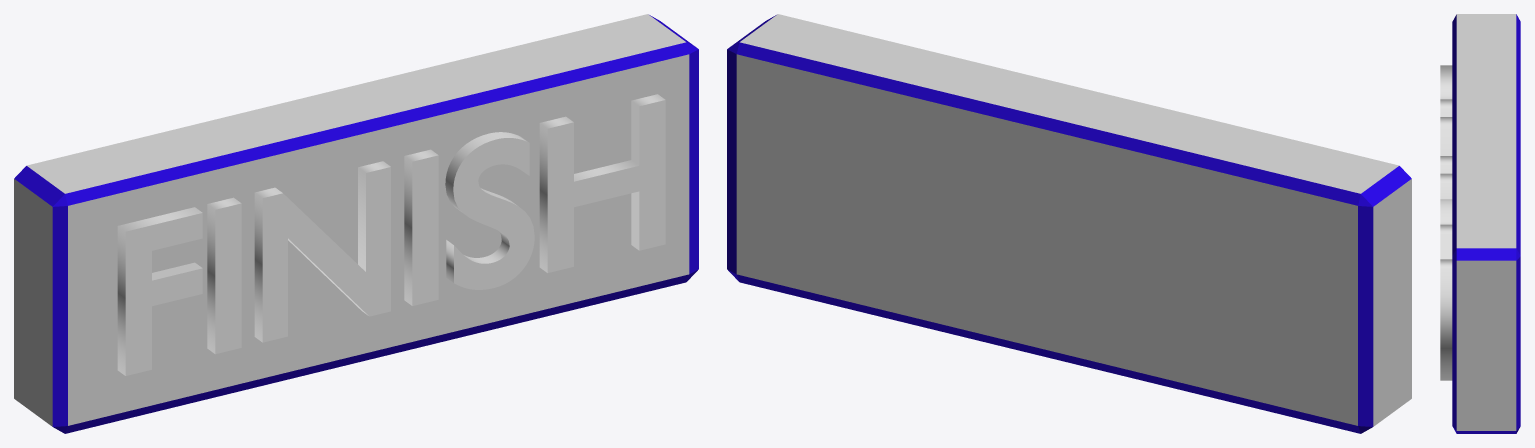
The model's file is FinishLine.fbx.
The picture shows the model from 3 angles, left to right: view 1: azimuth 30°, elevation 25°; view 2: azimuth 150°, elevation 25°; view 3: azimuth 270°, elevation 25°; orthographic projection. The views are drawn at different scales.
Parts seen in each view (by area): view 1: Cube; view 2: Cube; view 3: Cube.
Part boxes in pixels (x1=…): Cube: x1=14, y1=14, x2=698, y2=433; Cube: x1=727, y1=14, x2=1411, y2=433; Cube: x1=1440, y1=14, x2=1520, y2=433.
Size of the model in its own units: 338 by 120 by 47.14.
